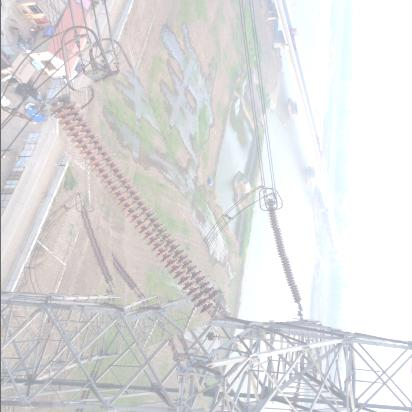insulator: (67, 73, 209, 347), (268, 203, 305, 313), (83, 205, 114, 291)
